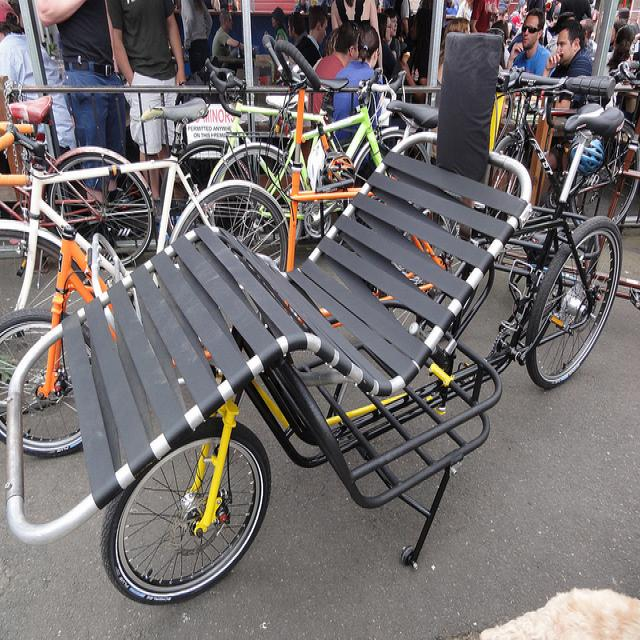chair: (76, 132, 537, 532)
dining table: (500, 112, 576, 136)
